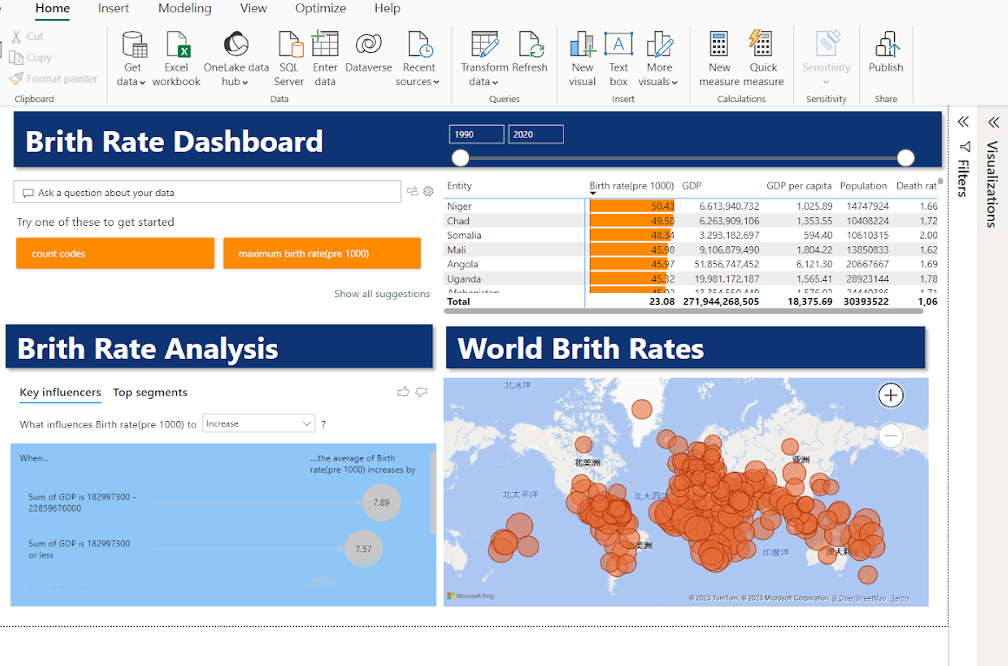

The dashboard page shown, as its layout file describes it:
{"tool":"powerbi","page":{"name":"Page 1","canvas":[1280,720],"ordinal":0},"visuals":[{"type":"shape","box":[10.6,0,1269.8,95],"z":0},{"type":"shape","box":[0,294.6,594.3,78.4],"z":1},{"type":"shape","box":[594.3,296.3,664.1,76.7],"z":2},{"type":"qnaVisual","box":[10.6,95,583.6,199.1],"z":3},{"type":"keyDriversVisual","fields":{"Target":["complete_dataset.Birth rate(pre 1000)"],"ExplainBy":["Sum(complete_dataset.GDP)","Sum(complete_dataset.Population)"]},"box":[10.5,373,583.9,325.9],"z":4},{"type":"map","fields":{"Category":["complete_dataset.Entity"],"Size":["Sum(complete_dataset.Birth rate(pre 1000))"]},"box":[594.3,373,664.1,325.9],"z":5},{"type":"pivotTable","fields":{"Rows":["complete_dataset.Entity"],"Values":["Avg(complete_dataset.Birth rate(pre 1000))","Avg(complete_dataset.GDP)","Avg(complete_dataset.GDP per capita)","Avg(complete_dataset.Population)","Avg(complete_dataset.Death rate)"]},"box":[595,95,685,199],"z":6},{"type":"slicer","fields":{"Values":["complete_dataset.Year"]},"box":[594.3,17.4,650.1,78.4],"z":7}]}

Visuals, with their boxes on the page's 1280x720 design canvas (x1, y1, x2, y2). These are canvas units, not pixel positions in the 1008x666 screenshot, which may show the page scaled, cropped or inside an application window:
shape: (11,0,1280,95)
shape: (0,295,594,373)
shape: (594,296,1258,373)
qnaVisual: (11,95,594,294)
keyDriversVisual - complete_dataset.Birth rate(pre 1000) x Sum(complete_dataset.GDP): (10,373,594,699)
map - complete_dataset.Entity x Sum(complete_dataset.Birth rate(pre 1000)): (594,373,1258,699)
pivotTable - complete_dataset.Entity x Avg(complete_dataset.Birth rate(pre 1000)): (595,95,1280,294)
slicer - complete_dataset.Year: (594,17,1244,96)
